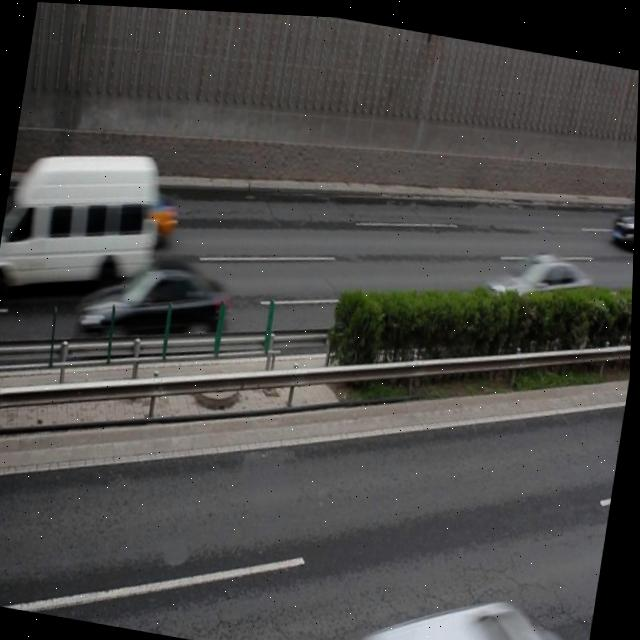car: (349, 570, 596, 640), (82, 248, 237, 357), (482, 237, 596, 317), (76, 162, 184, 239), (612, 177, 636, 243)
truck: (0, 136, 163, 309)
